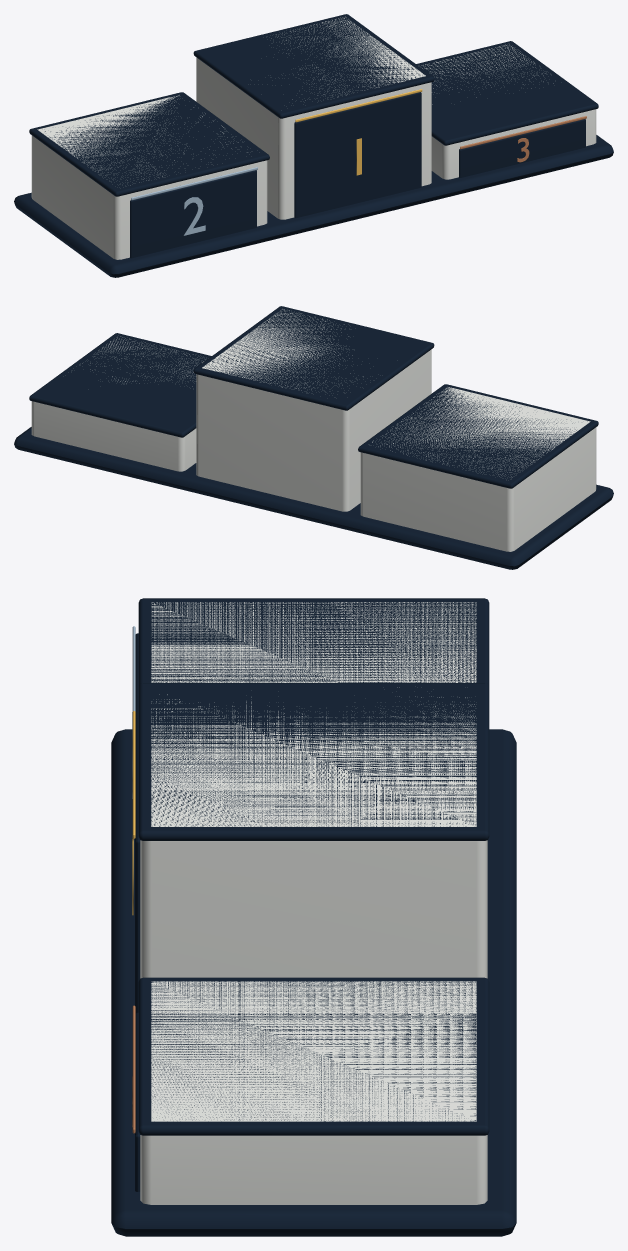
File: podium.glb
3 views of the same model, one above another, from view 1: azimuth 30°, elevation 25°; view 2: azimuth 150°, elevation 25°; view 3: azimuth 270°, elevation 25° (orthographic). The views are drawn at different scales.
Visible parts, largest first — view 1: podium / consolidated CC0 mesh; view 2: podium / consolidated CC0 mesh; view 3: podium / consolidated CC0 mesh.
Boxes of the visible parts, x1,y1,x2,y2 form: podium / consolidated CC0 mesh: (14, 14, 613, 277); podium / consolidated CC0 mesh: (14, 306, 613, 569); podium / consolidated CC0 mesh: (111, 598, 516, 1236).
Bounding box in the file's own units: 3.62 × 0.82 × 1.26.
